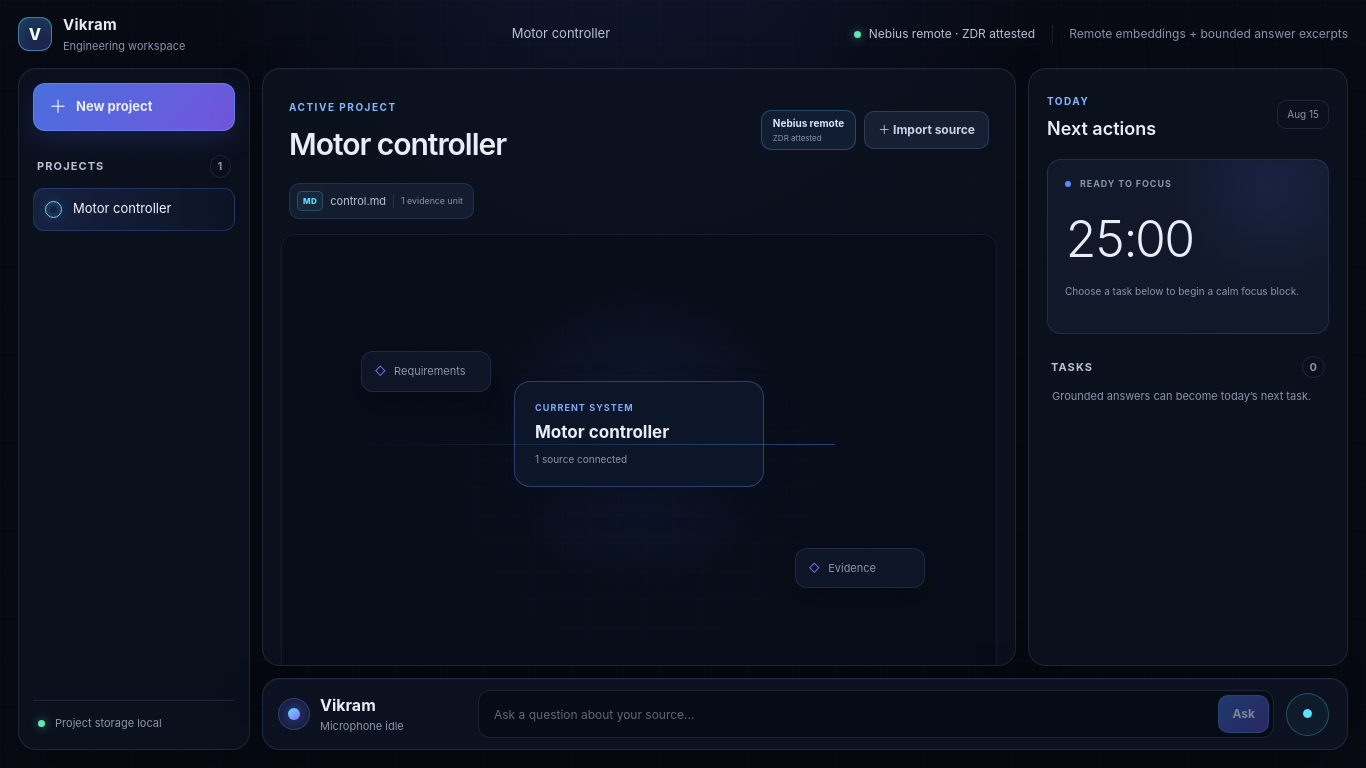
Test: reviewable vertical slice UI › turns a classified provider outage into an actionable remote error
Expected: the heading "Motor controller" is shown, left=289, top=122, right=506, bottom=167
Type "What is phase margin?" into the field named "Ask about the selected project" at coordinates (847, 714), box left=483, top=695, right=1212, bottom=733
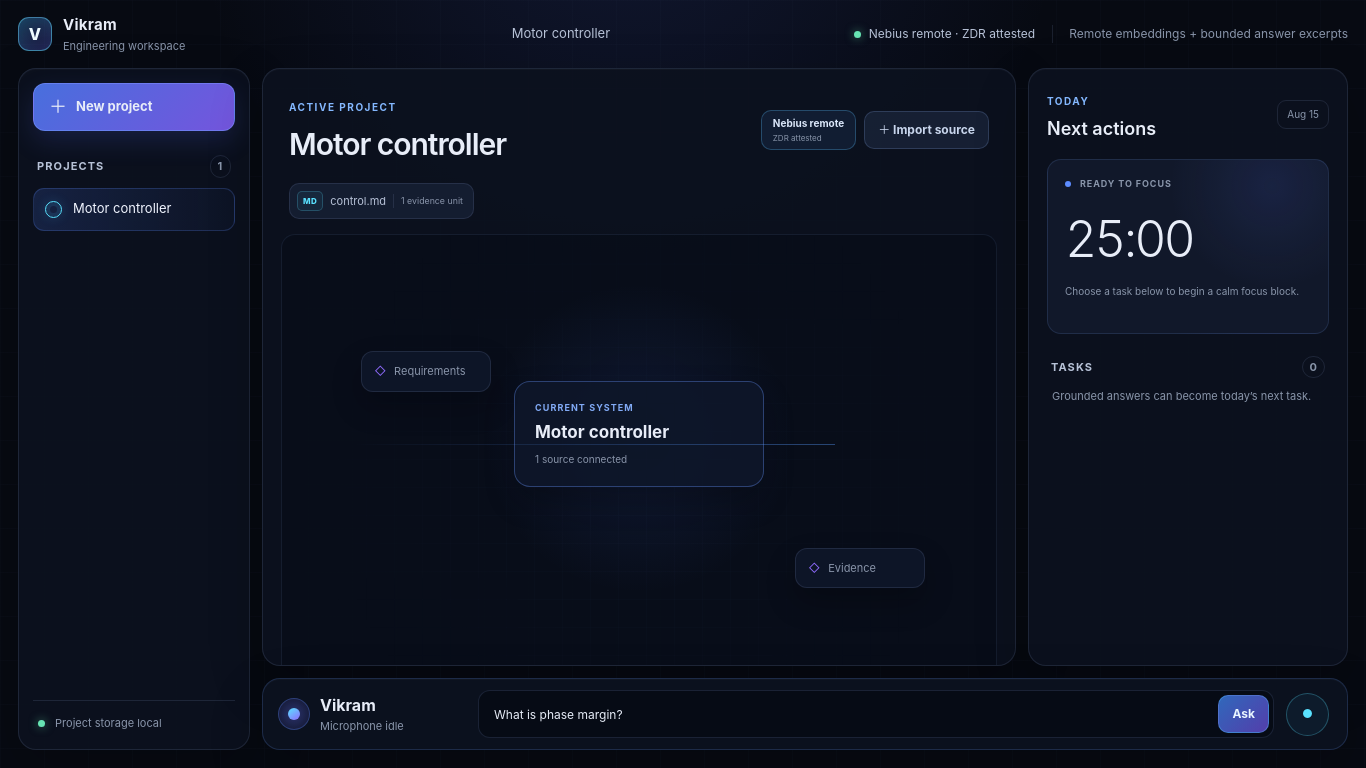
Click the button "Ask" at coordinates (1244, 714), box left=1218, top=695, right=1269, bottom=733
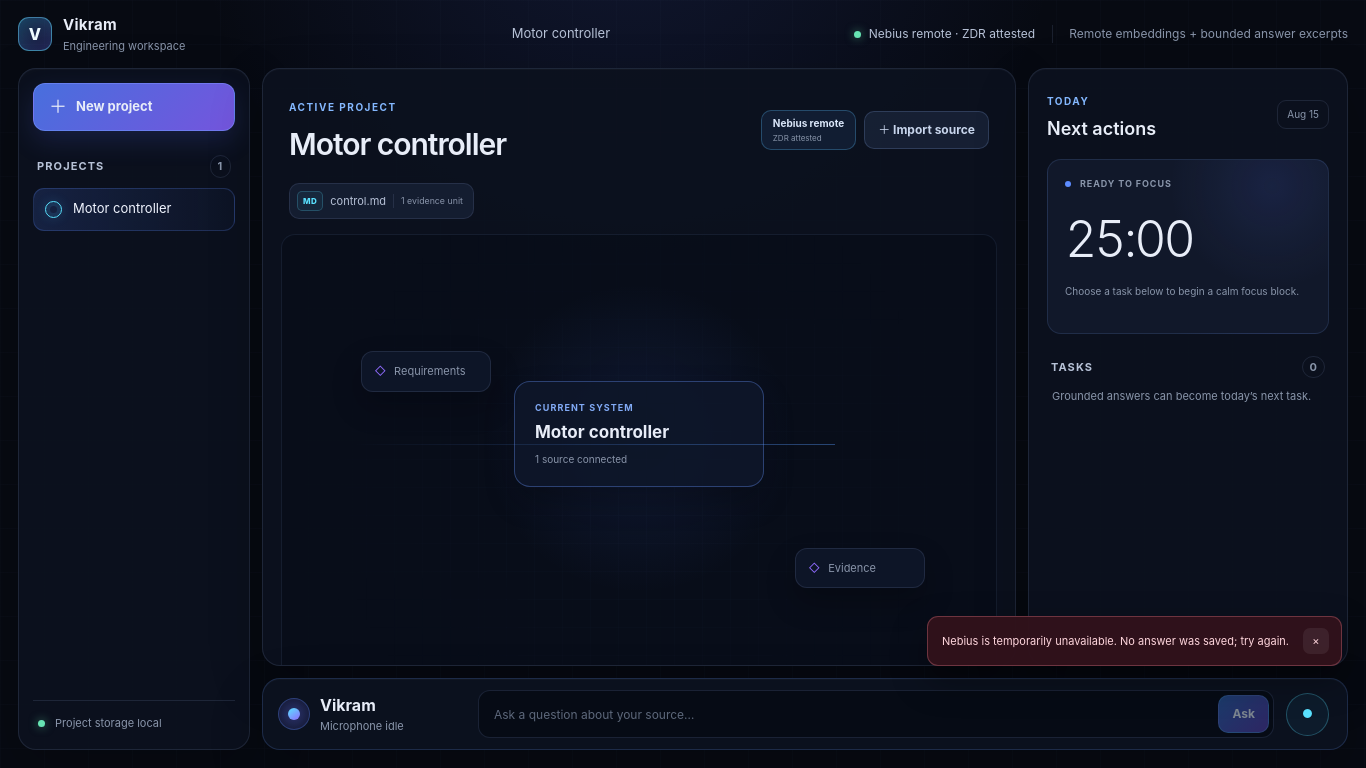
Expected: the message shows "Nebius is temporarily unavailable. No answer was saved; try again", left=942, top=634, right=1289, bottom=648
